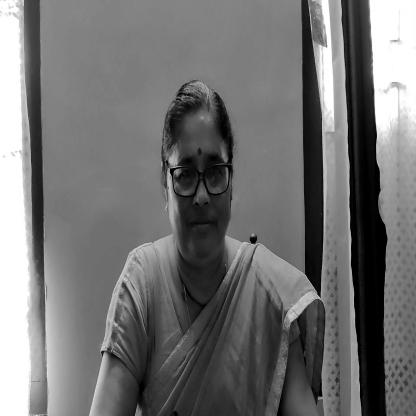Normal: (154, 84, 238, 264)
